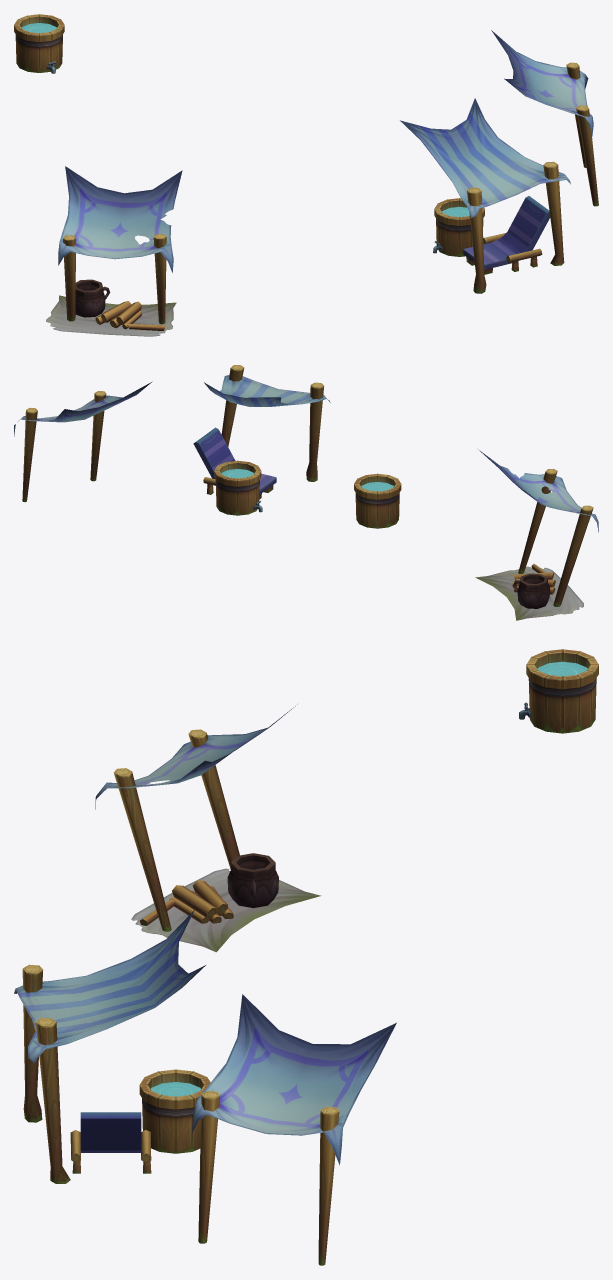
The model's file is map_1002_caowu_01_c.FBX.
The picture shows the model from 3 angles, top to bottom: view 1: azimuth 30°, elevation 25°; view 2: azimuth 150°, elevation 25°; view 3: azimuth 270°, elevation 25°; orthographic projection. The views are drawn at different scales.
Parts seen in each view (by area): view 1: map_1002_caowu_01_c; view 2: map_1002_caowu_01_c; view 3: map_1002_caowu_01_c.
Boxes of the visible parts, left/top/right/bottom form: map_1002_caowu_01_c: left=14, top=14, right=598, bottom=336; map_1002_caowu_01_c: left=14, top=365, right=598, bottom=620; map_1002_caowu_01_c: left=14, top=649, right=598, bottom=1265.
Bounding box in the file's own units: 13.54 × 4.39 × 8.3.
